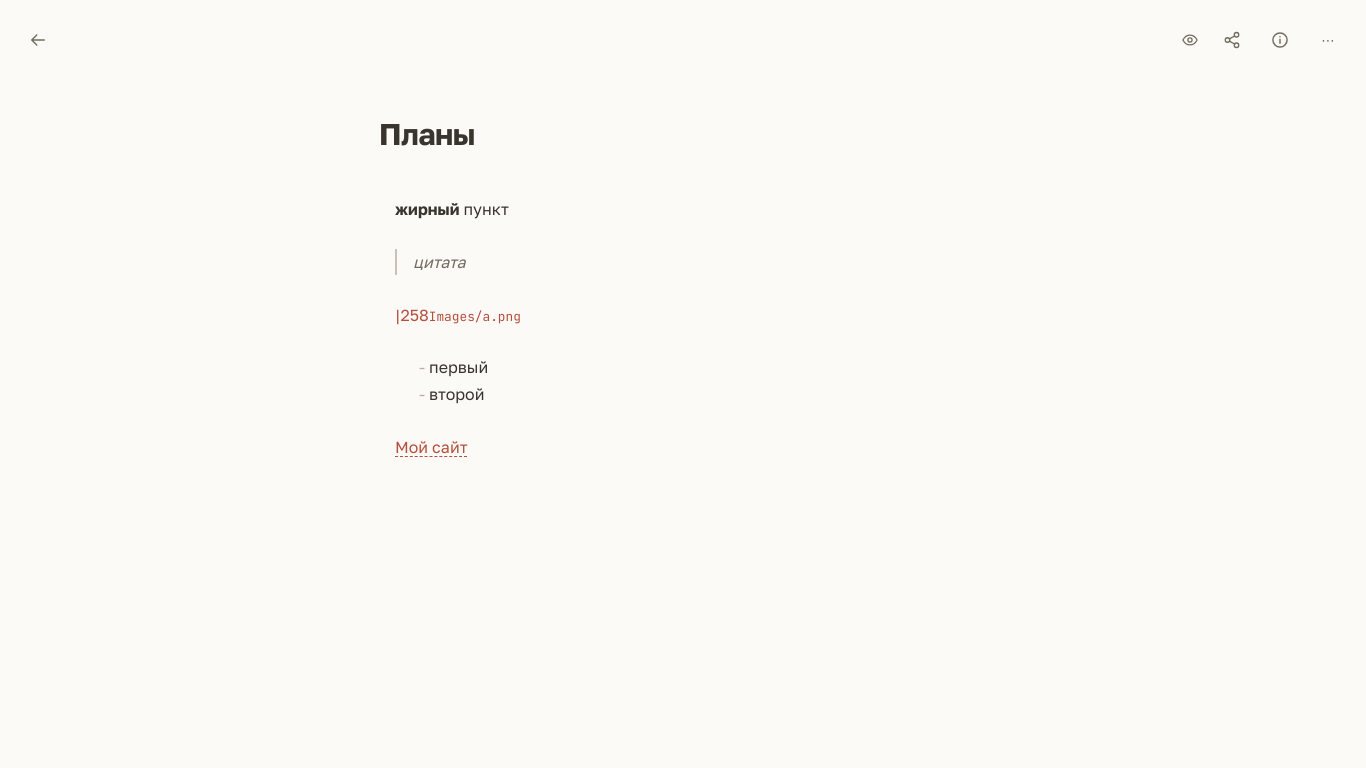
кнопка «Поделиться» › окна не случилось, но текст в буфере — говорим именно это
Step 1. Click the button named "Поделиться" → [1232, 40], box [1210,18,1254,62]
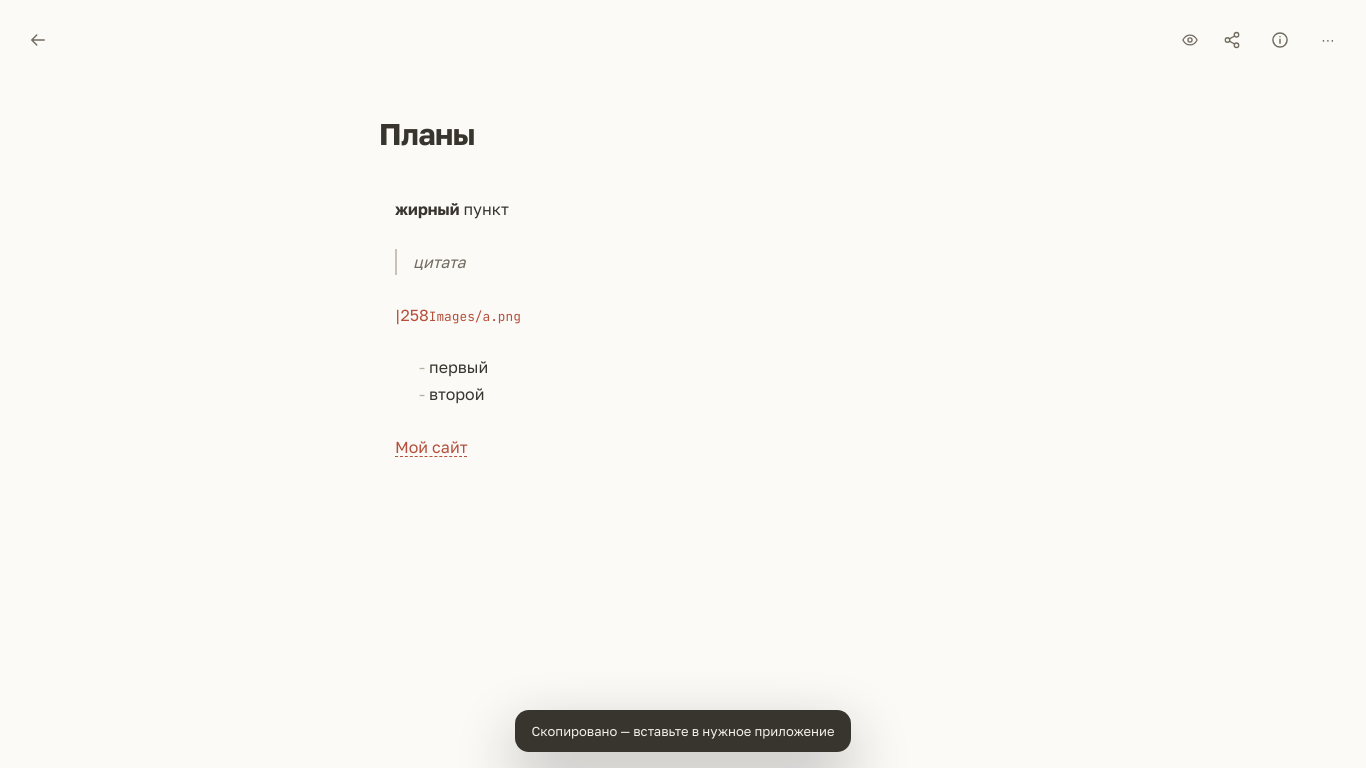
Expected: the text "Скопировано — вставьте в нужное приложение" is shown, [532,722,834,740]
